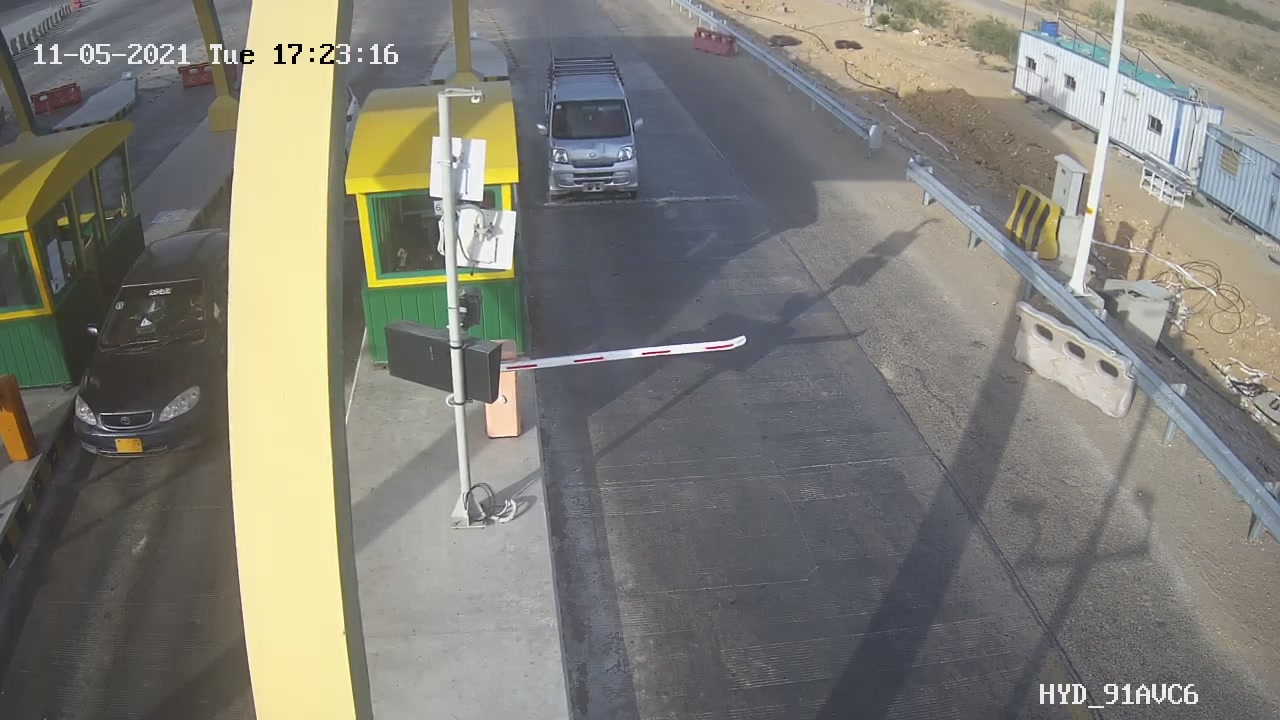F1: (531, 38, 650, 215)
